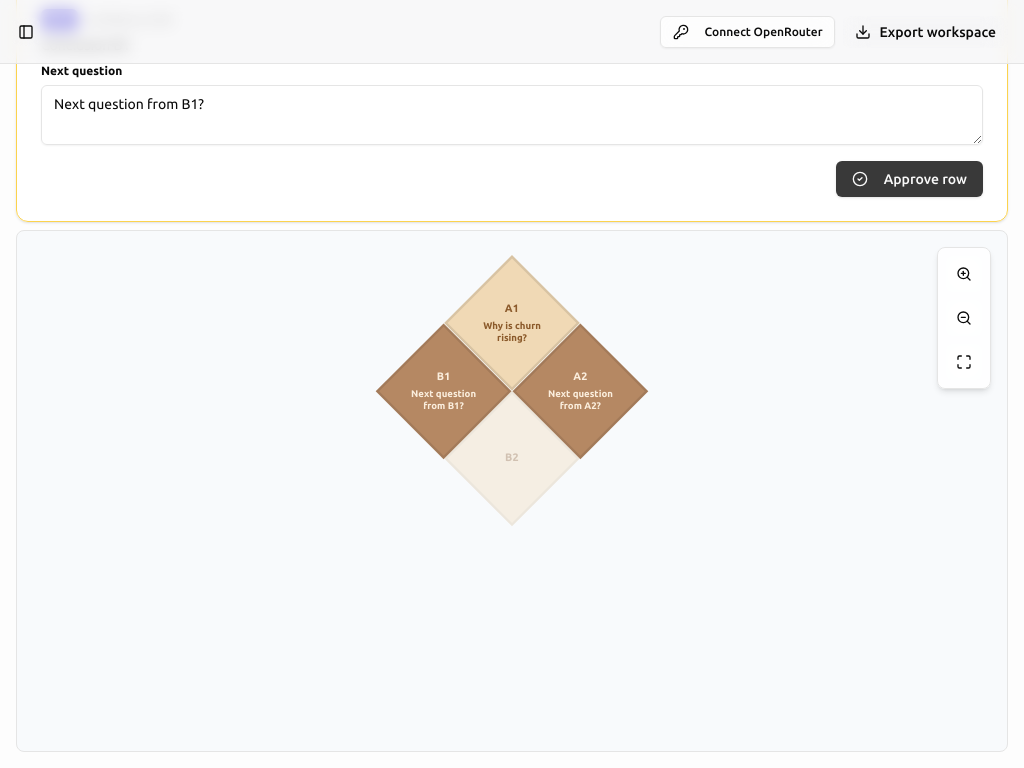
workspace apps render › a block opens its record from the board
This screenshot has width=1024, height=768.
(page scrolled)
Click the button with aria-label "Block A2 (edge)". click: (580, 391)
box: x1=512 y1=323 x2=648 y2=459
(page scrolled)
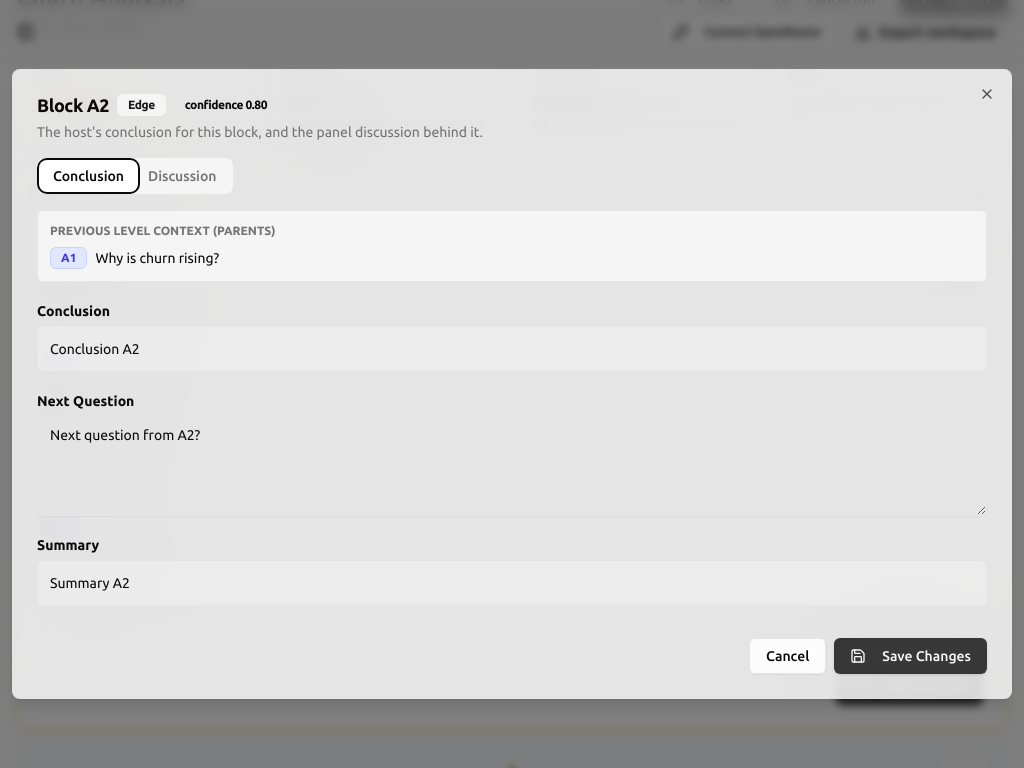
Check: the heading "Block A2 edge confidence 0.80" is shown, box x1=37 y1=94 x2=278 y2=116
